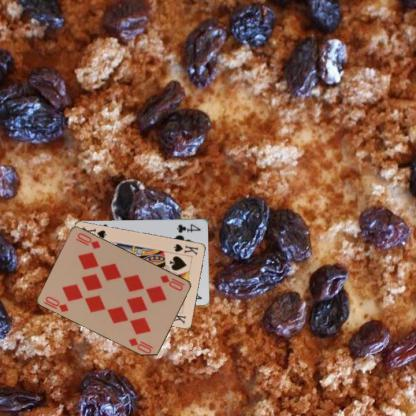10d: (41, 294, 70, 314), (158, 272, 186, 292)
4c: (174, 221, 202, 234)
Ks: (170, 240, 199, 257)
